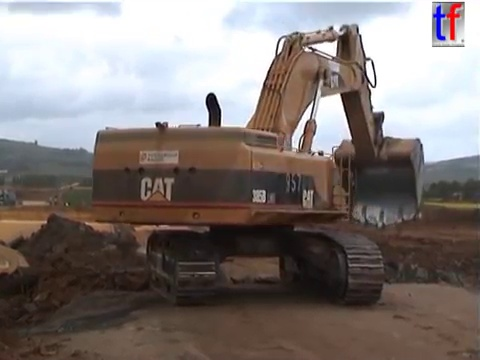excavator: (86, 20, 429, 310)
truck: (1, 229, 193, 331), (124, 222, 213, 294)
